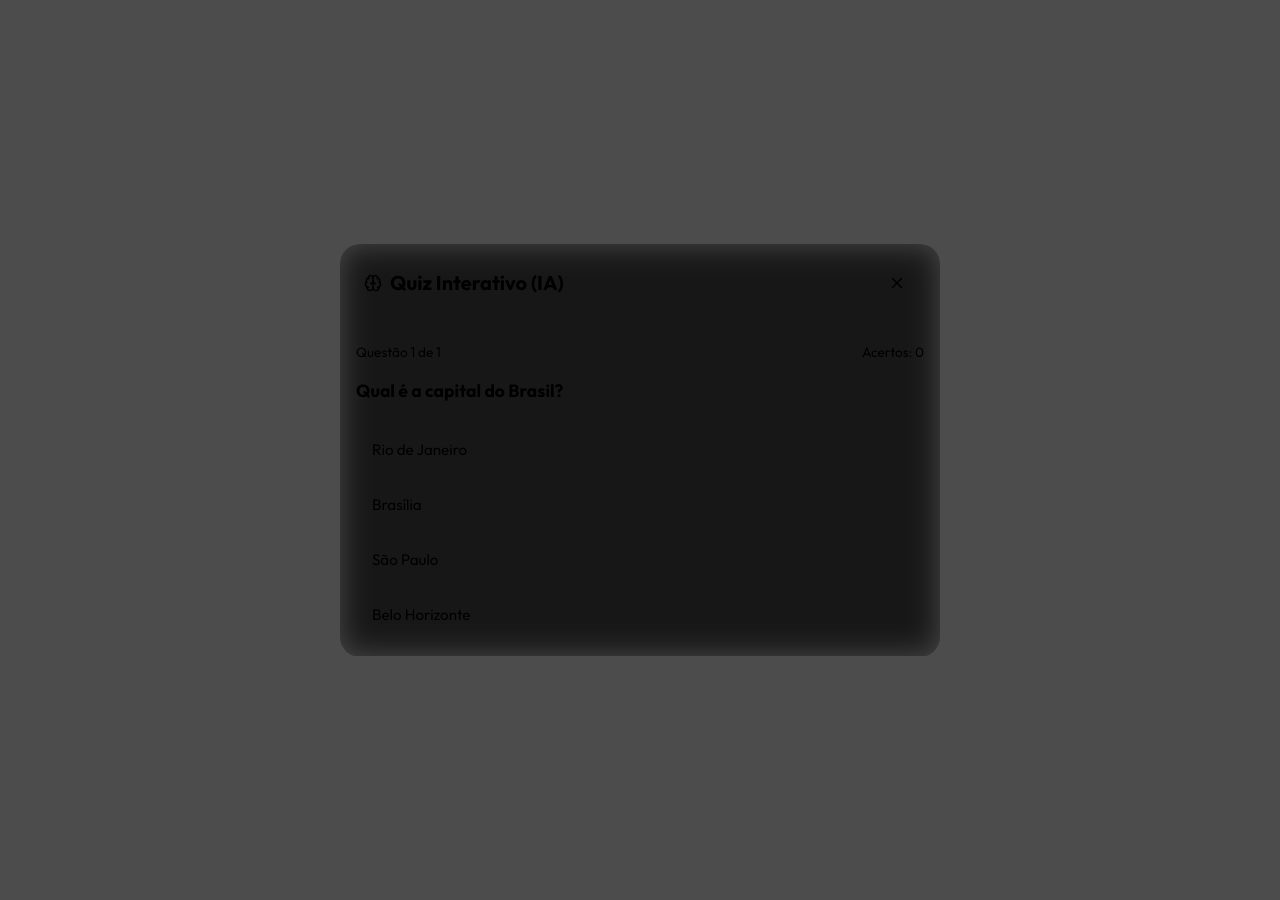
Scenario: Componentes de Inteligência Artificial › AIGenerateQuizModal › deve renderizar a pergunta e opções, e mostrar a justificativa após seleção
Expected: the heading "Qual é a capital do Brasil?" is shown, [356, 379, 563, 402]
Expected: the text "Questão 1 de 1" is shown, [356, 342, 441, 362]
Select the wrong answer
Click the button "Rio de Janeiro" at [420, 450], box [356, 428, 924, 471]
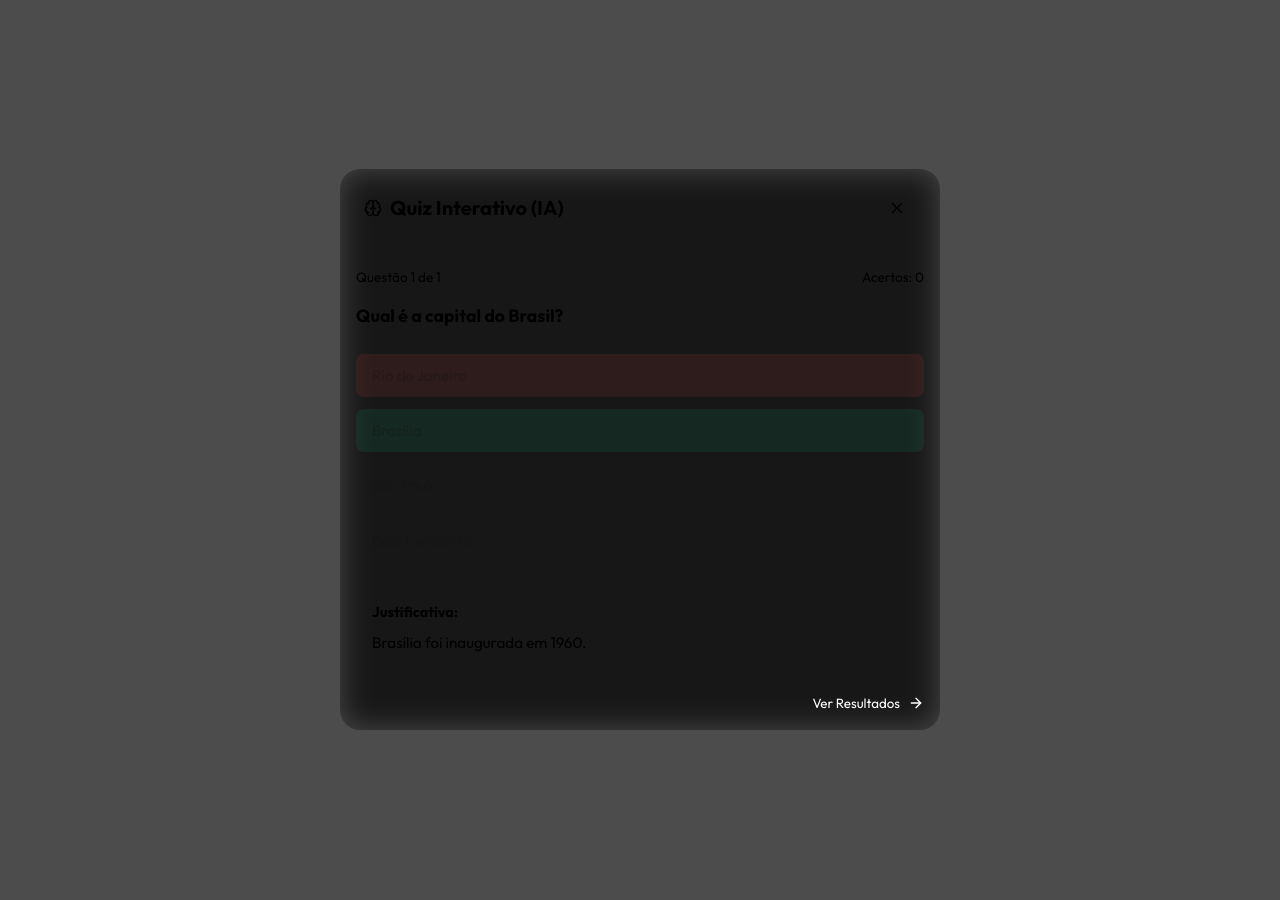
Result: the button "Ver Resultados" is shown at [812, 695, 924, 711]
